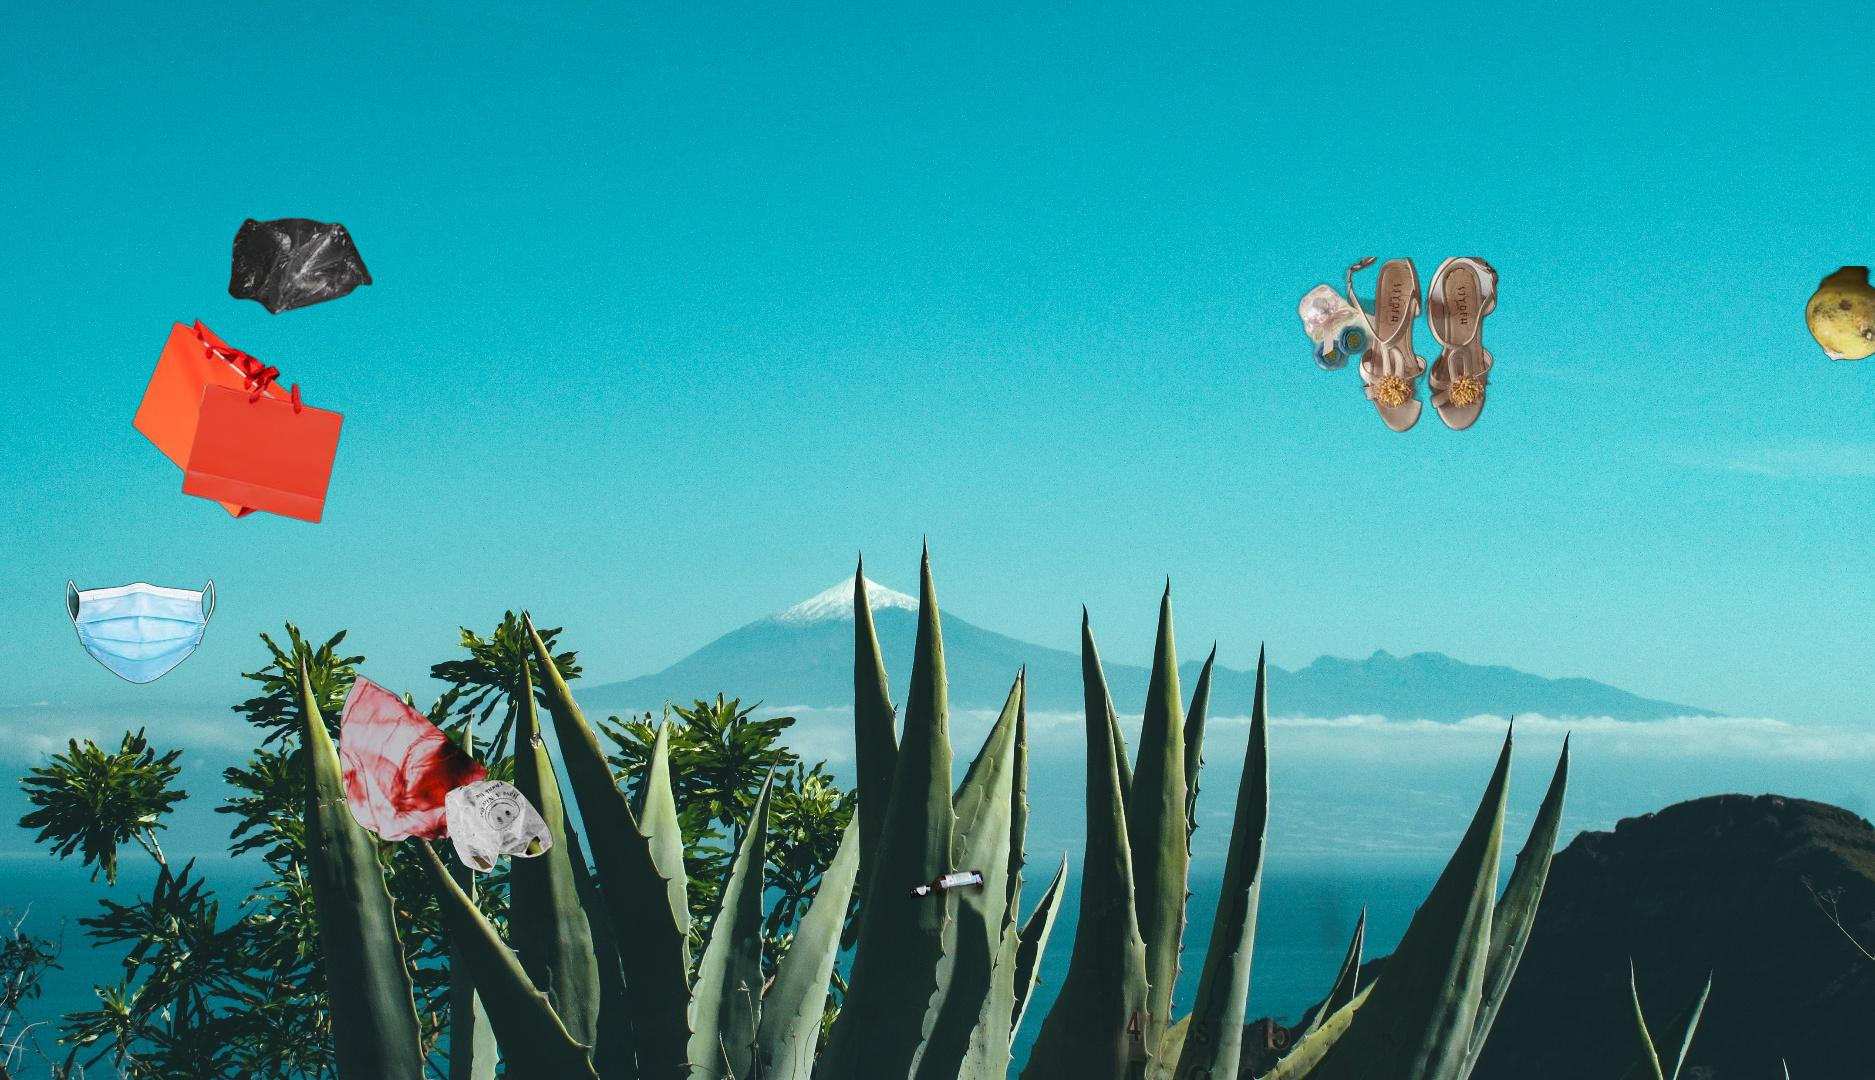biological: (1691, 266, 1875, 395)
glass: (728, 834, 988, 905)
paper-bag: (129, 315, 346, 526)
plastic-bag: (336, 656, 556, 877), (205, 216, 375, 318)
shoes: (1294, 257, 1502, 435)
trash: (64, 577, 220, 687)
trashbox-cardboard: (1066, 787, 1578, 1080)
